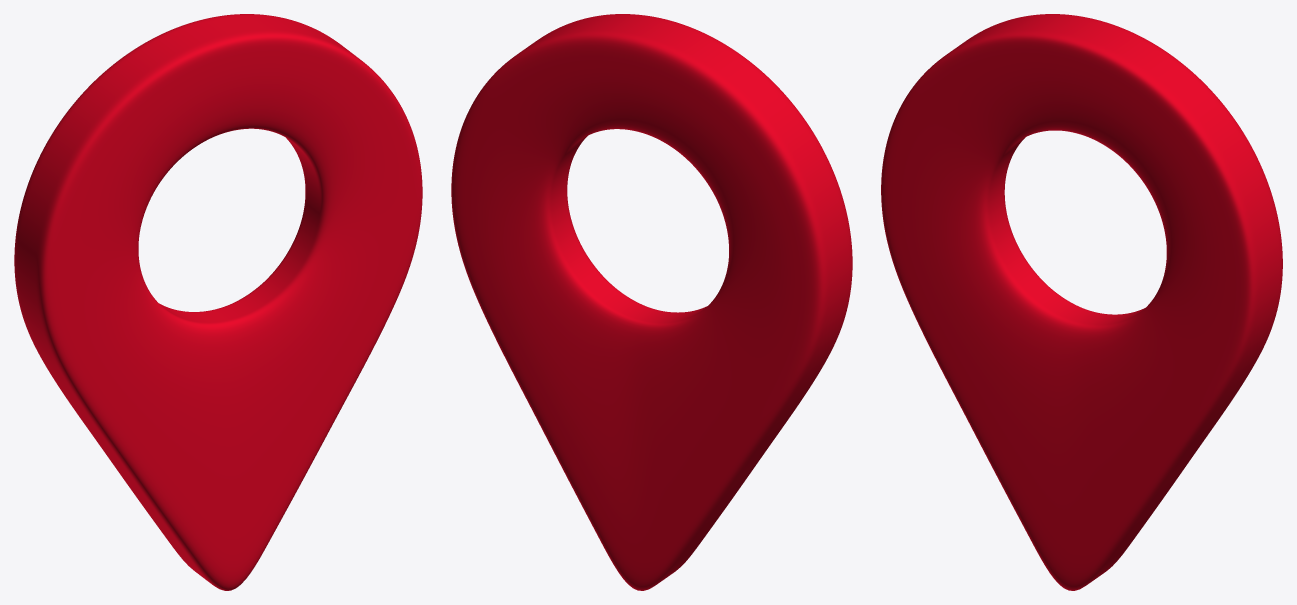
The model's file is LocationPin.glb.
3 renders of one model, left to right at view 1: azimuth 30°, elevation 25°; view 2: azimuth 150°, elevation 25°; view 3: azimuth 330°, elevation 25°, orthographic.
Visible parts, largest first — view 1: Object_2; view 2: Object_2; view 3: Object_2.
Part boxes in pixels (<box>): Object_2: <box>14,14,422,590</box>; Object_2: <box>451,14,852,590</box>; Object_2: <box>881,14,1282,590</box>.
Bounding box in the file's own units: 2.6 × 3.63 × 0.4383.
